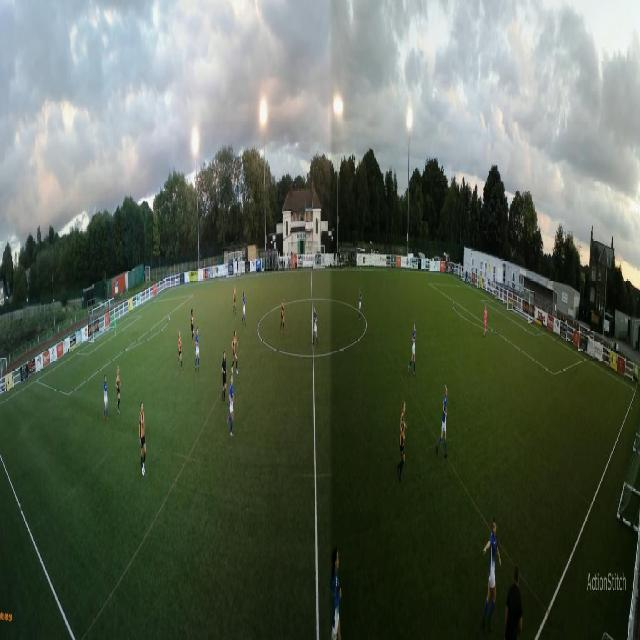player: (483, 517, 503, 633), (331, 546, 342, 640), (397, 398, 408, 484), (436, 384, 448, 462), (139, 401, 147, 477), (409, 321, 417, 378), (228, 375, 234, 437), (103, 373, 110, 424), (232, 328, 239, 375), (222, 350, 228, 401), (116, 366, 122, 416), (195, 326, 201, 375), (312, 306, 318, 348), (178, 330, 183, 371), (280, 297, 285, 335), (242, 291, 247, 327), (233, 285, 238, 317), (483, 306, 488, 337), (358, 286, 362, 323), (190, 308, 194, 343)
